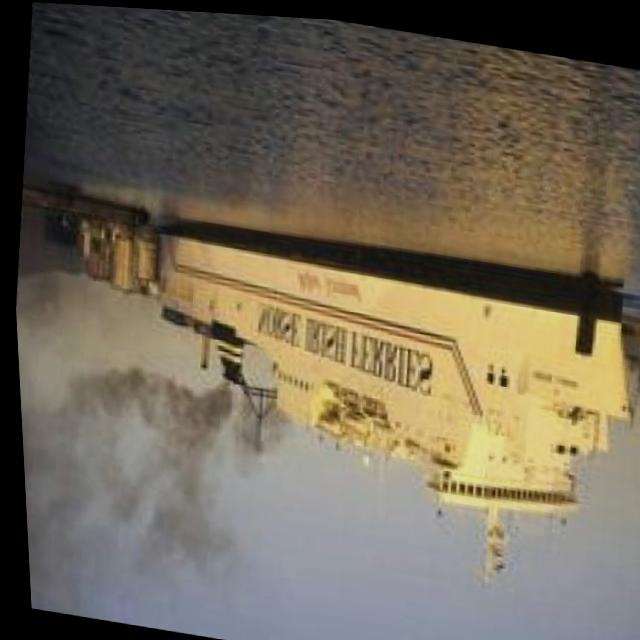ship2: (152, 217, 629, 578)
